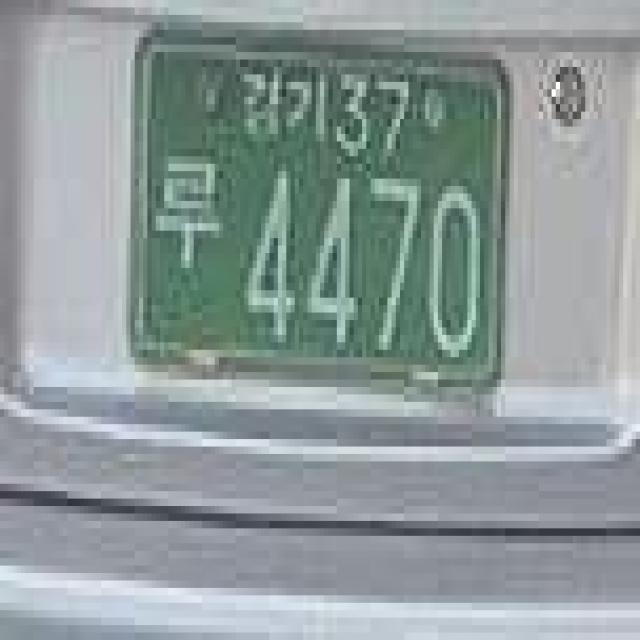illegal_plate: (110, 18, 534, 430)
